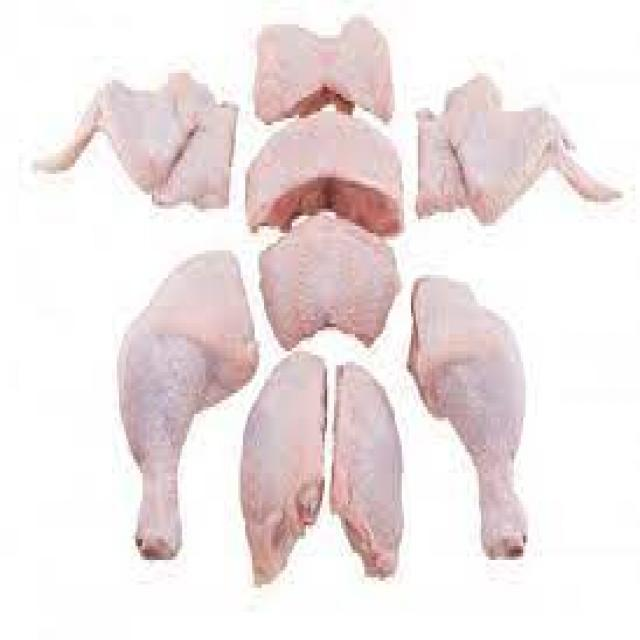chicken breast: (119, 254, 258, 560), (409, 272, 529, 559), (416, 74, 622, 226), (30, 72, 237, 209), (239, 345, 327, 582), (244, 108, 404, 232), (258, 214, 400, 348), (332, 358, 402, 580), (254, 21, 391, 122)
